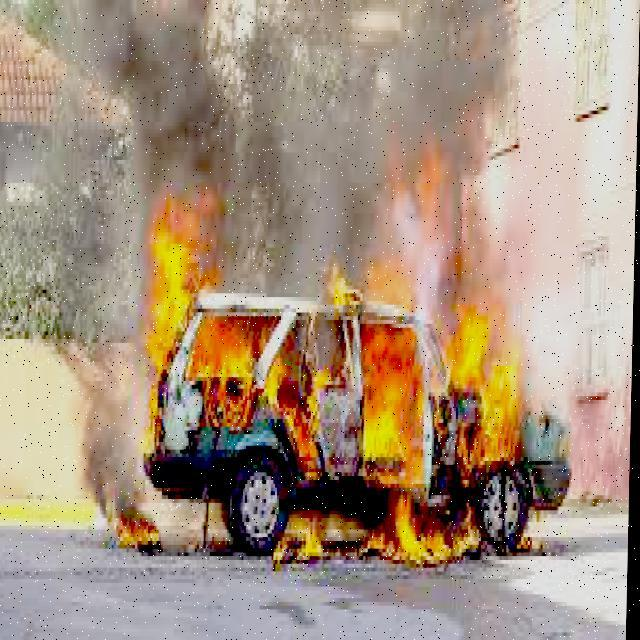Fire: (90, 191, 282, 457), (363, 198, 536, 472), (350, 484, 516, 594), (256, 488, 342, 582), (93, 480, 186, 564)
